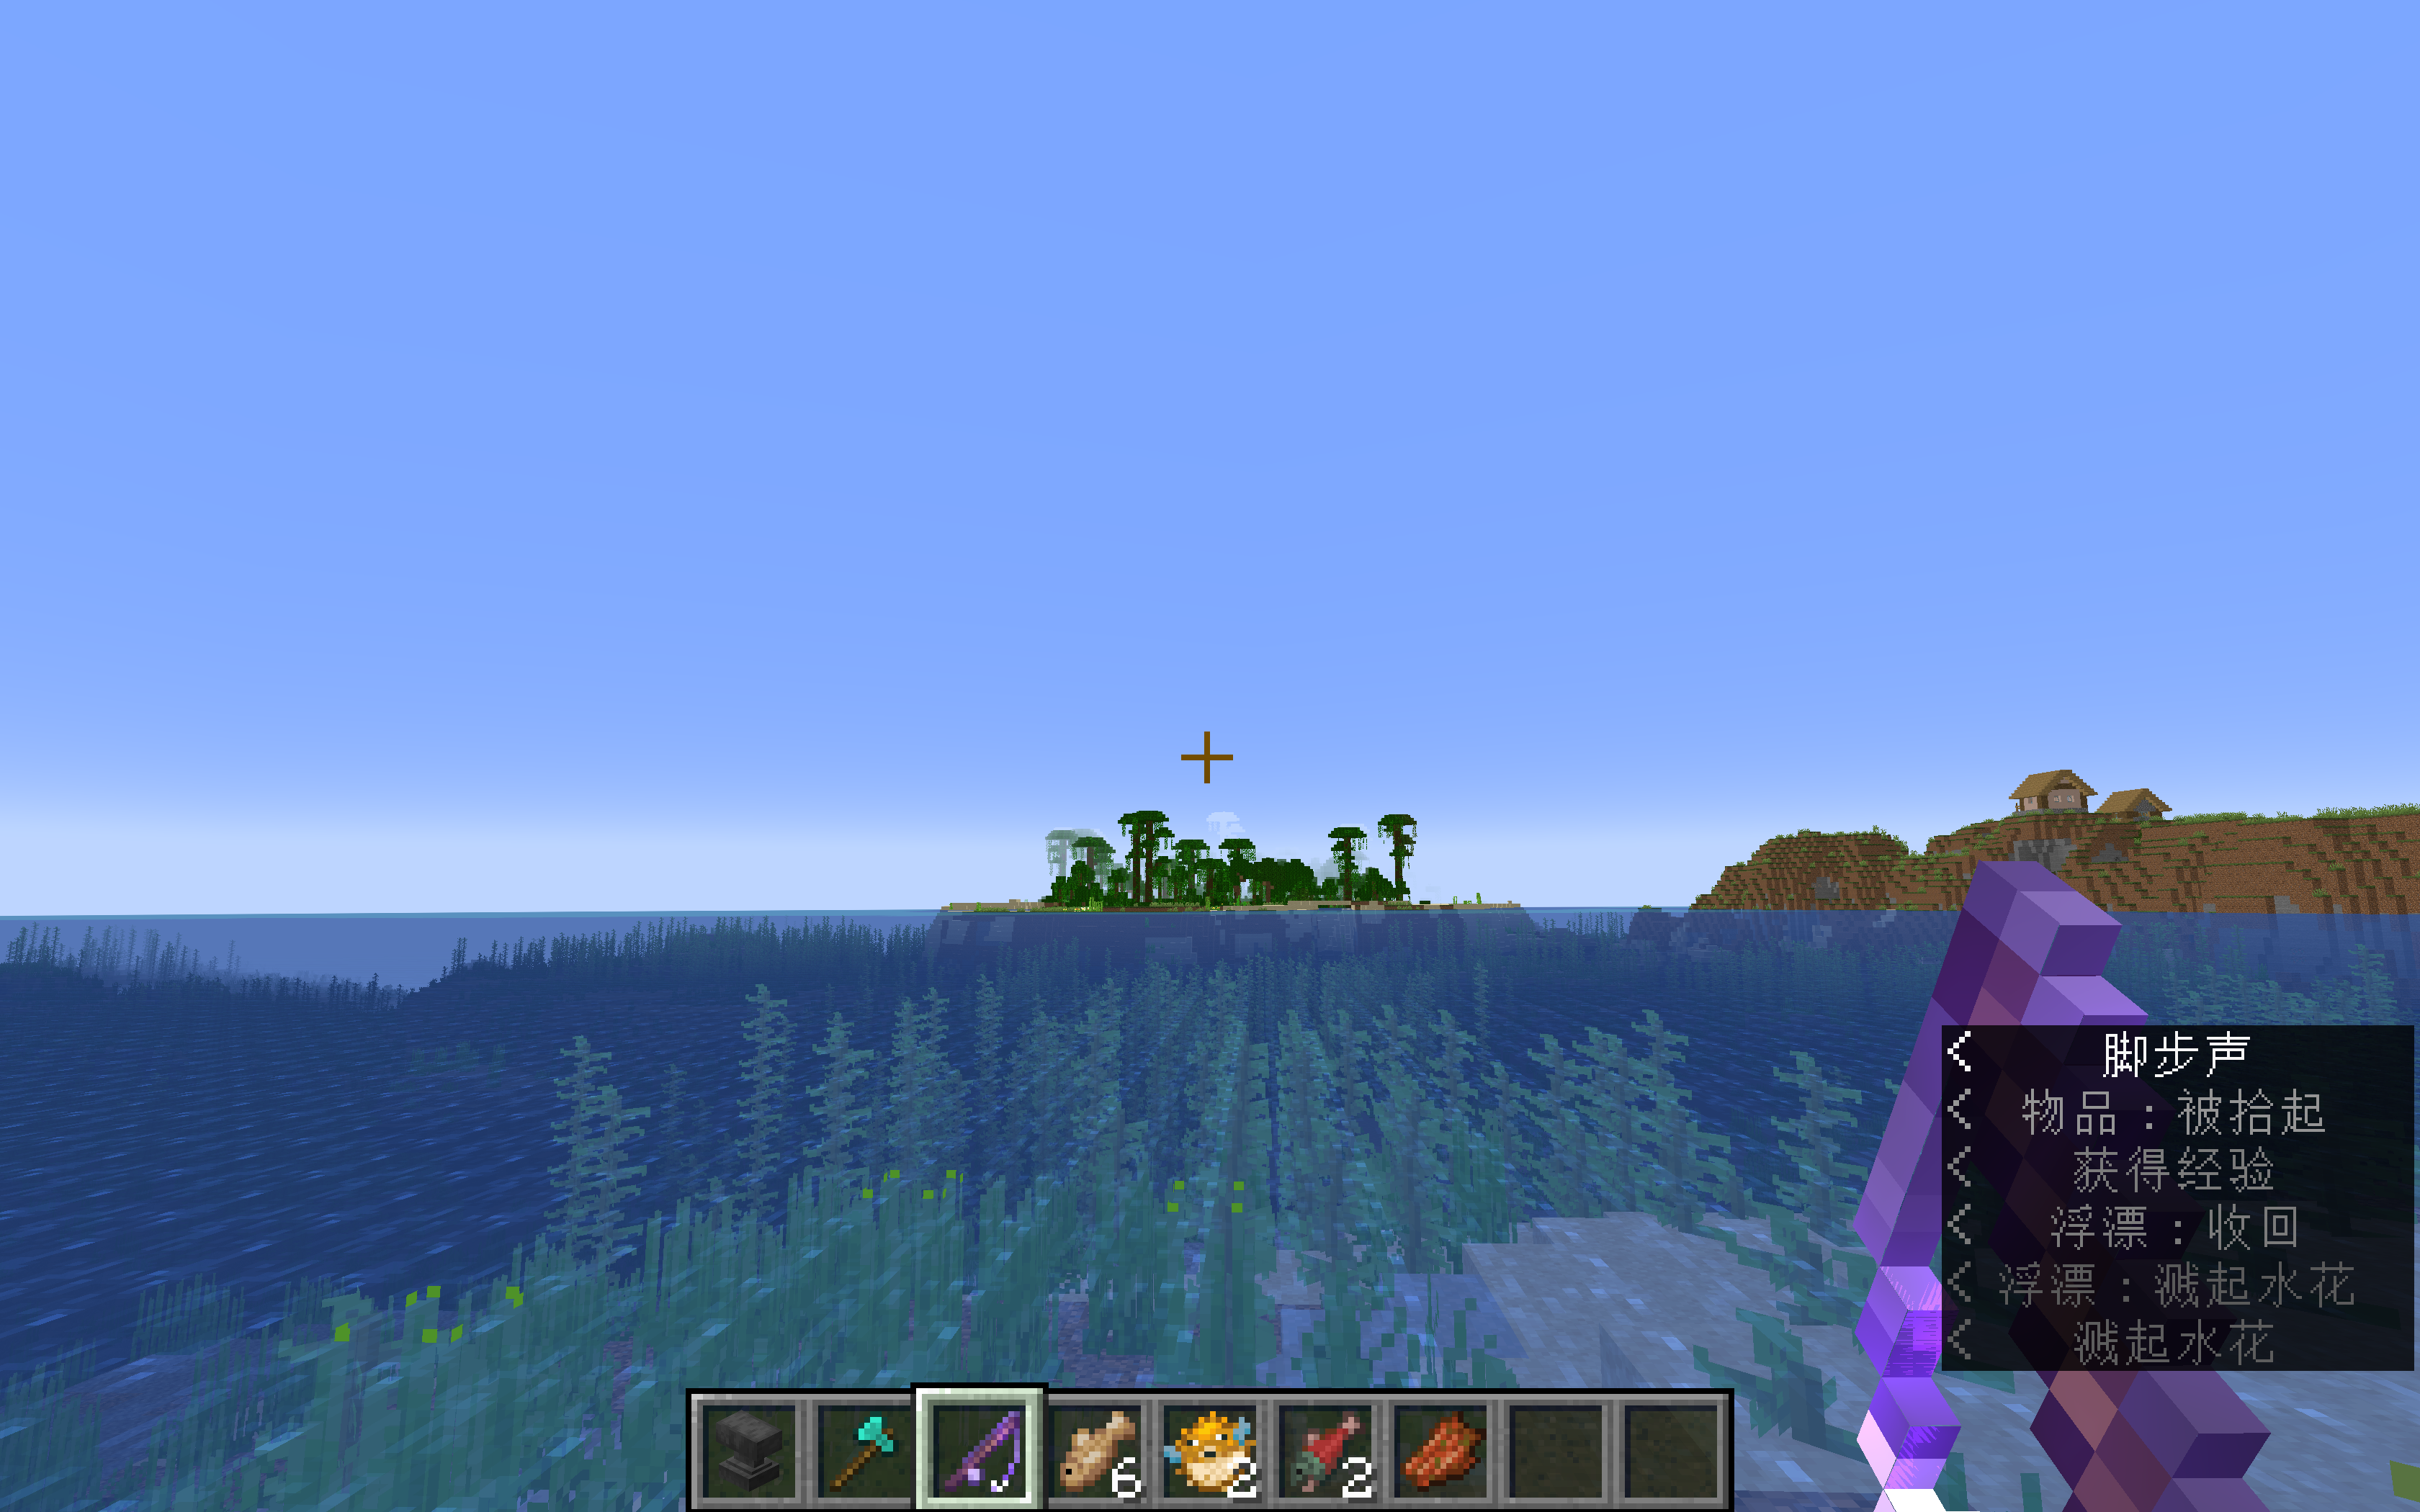inf: (1943, 1023, 2411, 1371)
